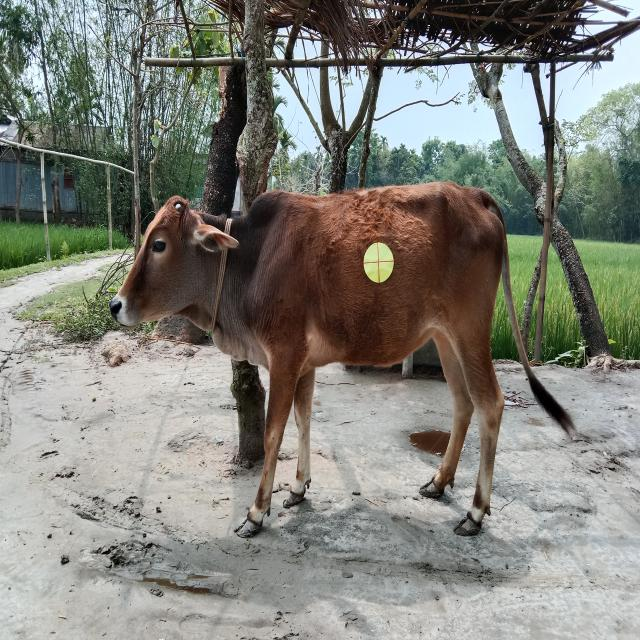badan_sapi: (254, 188, 506, 366)
sapi: (101, 152, 574, 552)
